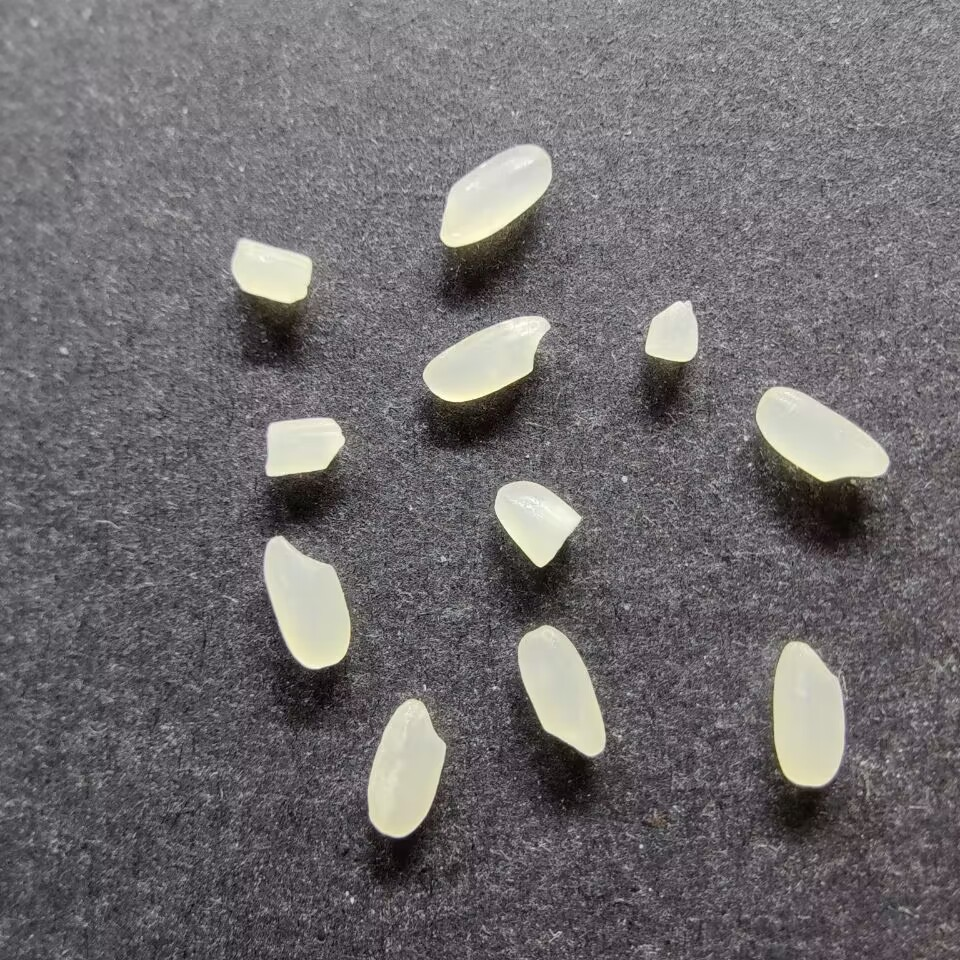broken: (493, 479, 582, 567), (228, 235, 314, 304), (263, 416, 345, 478), (643, 298, 700, 363)
rice: (754, 385, 889, 483), (261, 534, 351, 672), (515, 623, 606, 759), (437, 143, 553, 247), (421, 313, 552, 403), (365, 696, 446, 838), (770, 639, 846, 788)
